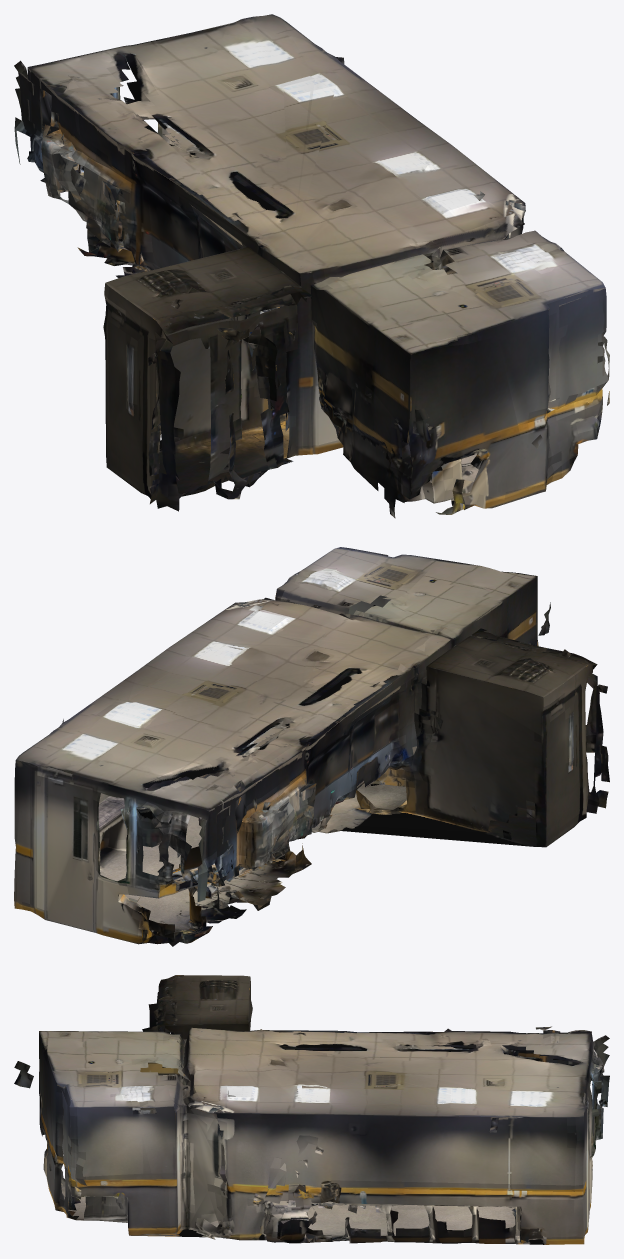
Rendered from Tv_rec_booth-IM.fbx.
3 renders of one model, top to bottom at view 1: azimuth 30°, elevation 25°; view 2: azimuth 150°, elevation 25°; view 3: azimuth 270°, elevation 25°, orthographic. The views are drawn at different scales.
Parts seen in each view (by area): view 1: Tv_rec_booth-IM; view 2: Tv_rec_booth-IM; view 3: Tv_rec_booth-IM.
Boxes of the visible parts, left/top/right/bottom form: Tv_rec_booth-IM: left=14, top=14, right=609, bottom=518; Tv_rec_booth-IM: left=14, top=547, right=609, bottom=946; Tv_rec_booth-IM: left=14, top=975, right=609, bottom=1244.
Size of the model in its own units: 572 by 267 by 963.
Materials: 1 (1 with a texture image).
